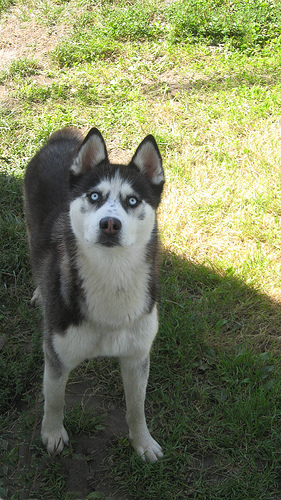dog: (21, 125, 165, 465)
